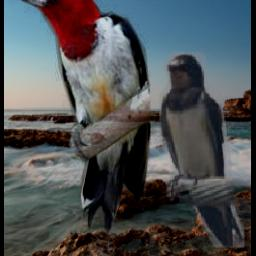Swallow: (159, 52, 244, 248)
Woodpecker: (8, 0, 151, 234)
